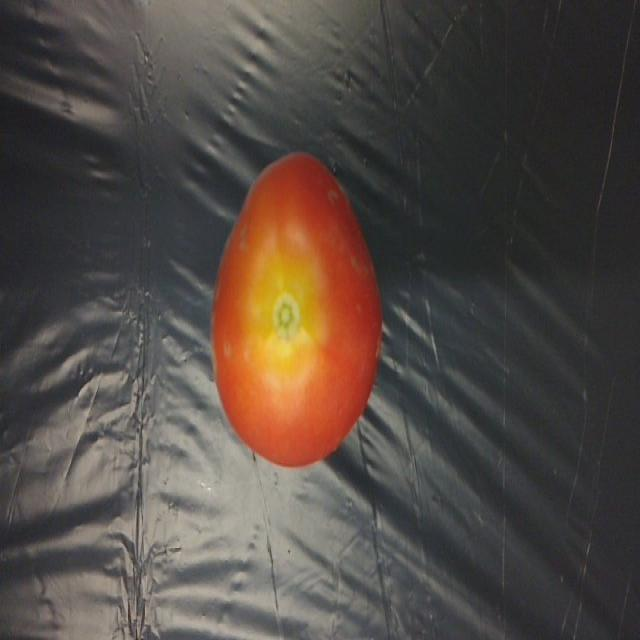sari: (205, 116, 392, 474)
